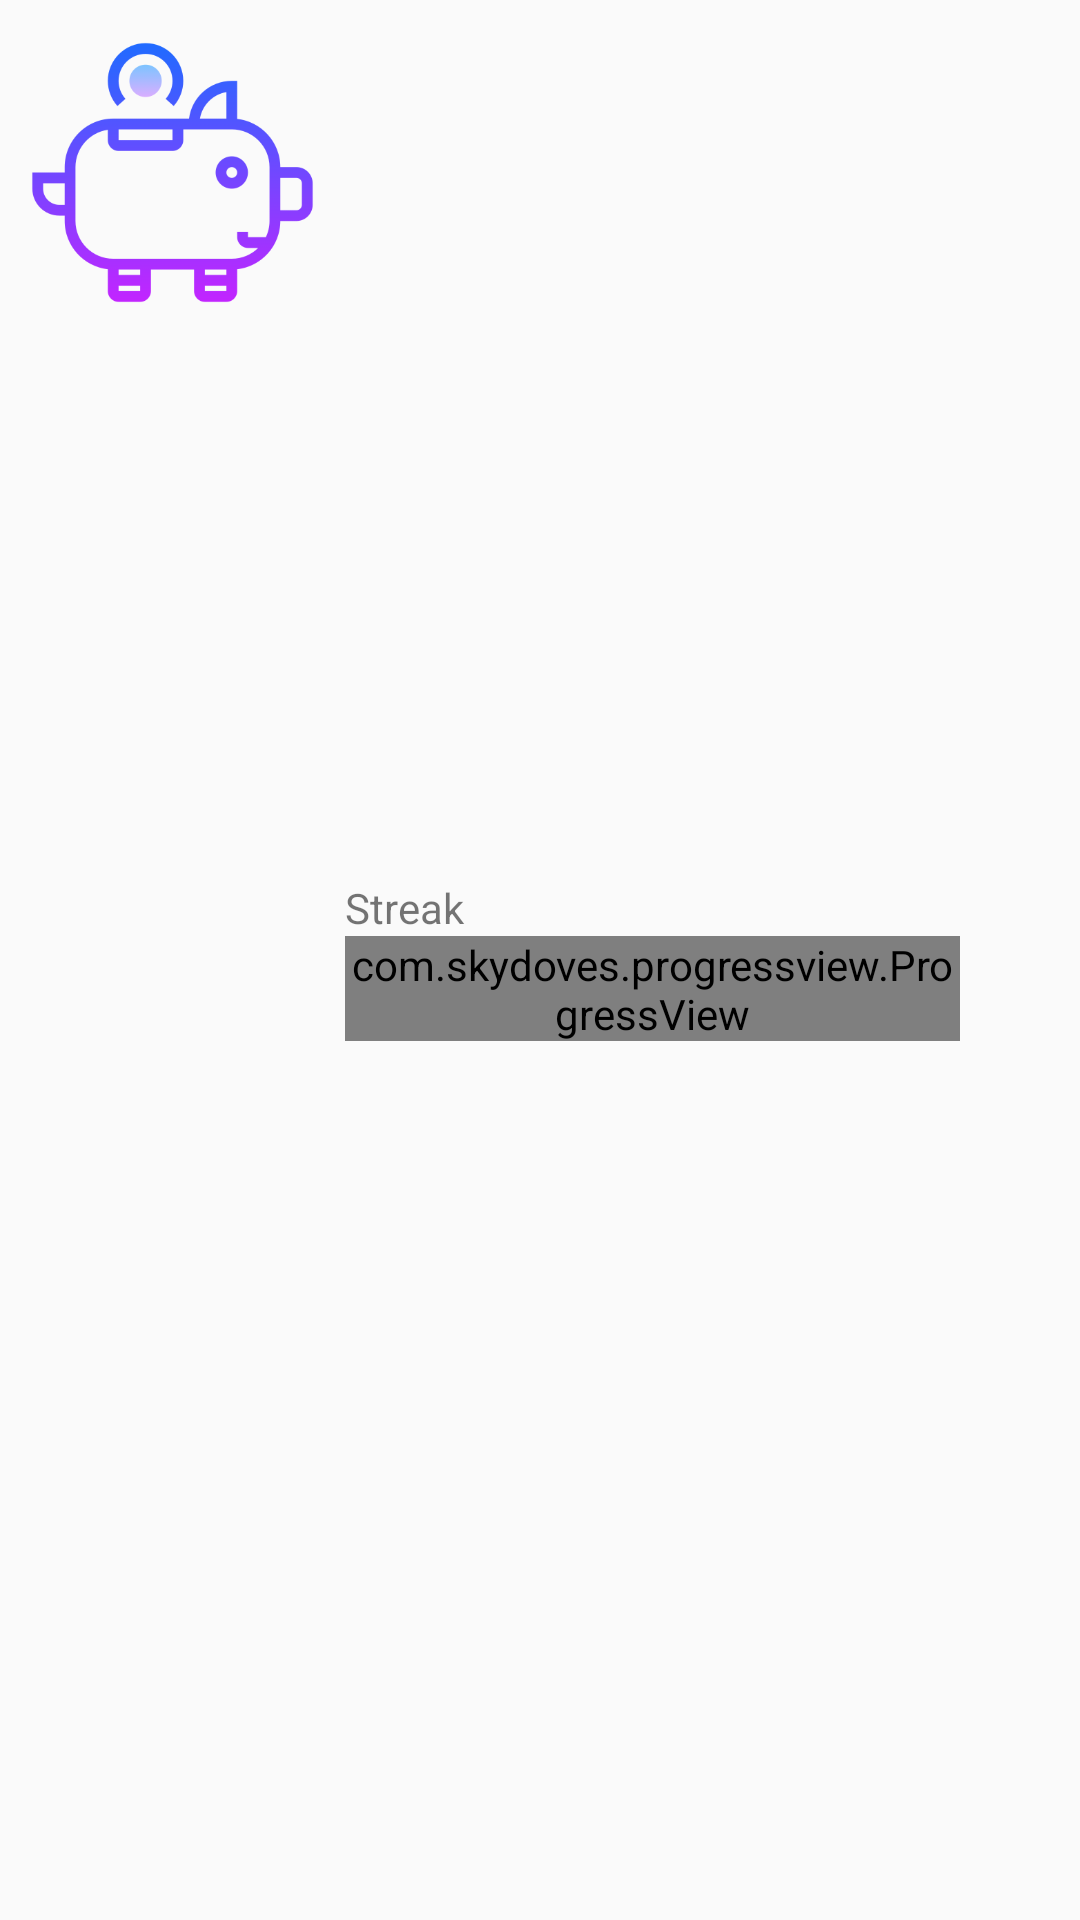

Icon click points for this 1080px x 1920px phone screenshot, format (x,y):
money box: (172,172)
